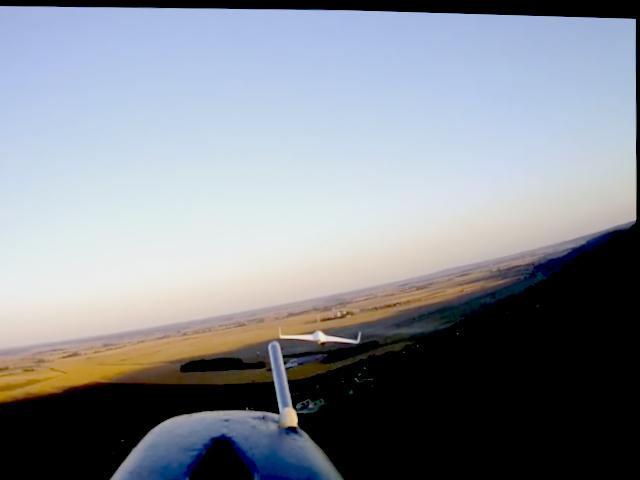plane: (279, 325, 361, 345)
